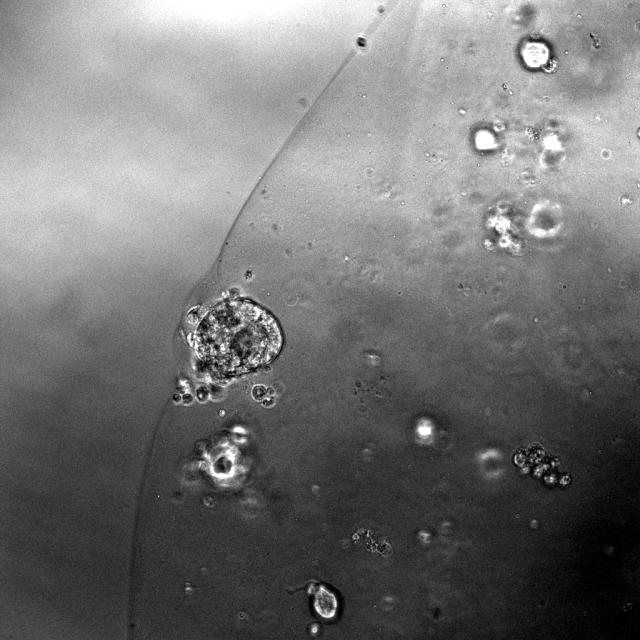organoid: (172, 287, 284, 405), (179, 425, 252, 491), (513, 443, 571, 488), (482, 199, 525, 255), (304, 581, 343, 638), (516, 34, 559, 73), (351, 527, 393, 557), (251, 380, 285, 408), (525, 126, 539, 140), (218, 410, 226, 418)
